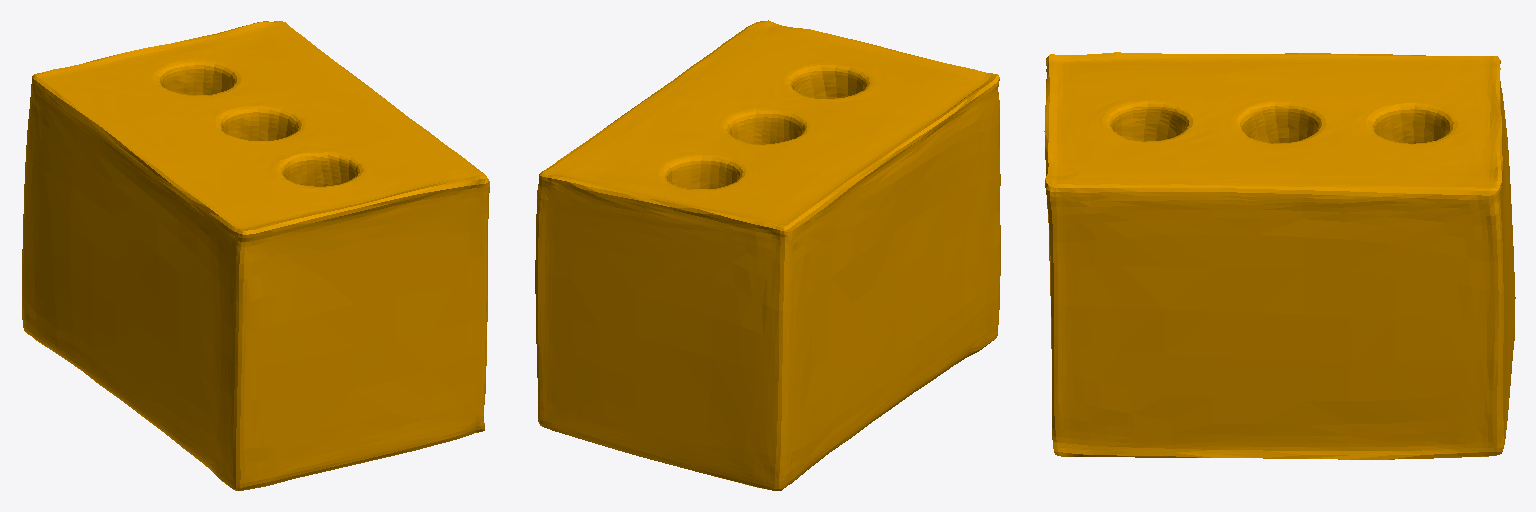
URDF robot description (foam_brick):
<?xml version="1.0"?>
<robot name="foam_brick">
  <link name="foam_brick">
    <visual>
      <origin xyz="0.0 0.0 0.0"/>
      <geometry>
        <mesh filename="ycb/061_foam_brick/textured.obj" scale="0.1 0.1 0.1"/>
      </geometry>
    </visual>
    <collision>
      <origin xyz="0.0 0.0 0.008"/>
      <geometry>
        <box size="0.049 0.074 0.049"/>
      </geometry>
    </collision>
    <inertial>
      <mass value="0.03"/>
      <inertia ixx="0.0001" ixy="0.0" ixz="0.0" iyy="0.0001" iyz="0.0" izz="0.0001"/>
    </inertial>
  </link>
</robot>

--- Render facts (derived) ---
Views: 3 orthographic renders of the robot side by side, from view 1: azimuth 30°, elevation 25°; view 2: azimuth 150°, elevation 25°; view 3: azimuth 270°, elevation 25°.
Robot: foam_brick — 1 links, 0 joints (none); root link foam_brick; default pose: all joints at 0.
Visible links, largest first — view 1: foam_brick; view 2: foam_brick; view 3: foam_brick.
Link boxes in pixels (<box>): foam_brick: <box>22,21,489,490</box>; foam_brick: <box>535,20,1000,490</box>; foam_brick: <box>1044,52,1515,459</box>.
Bounding box of the posed robot: 0.524 × 0.7769 × 0.5101 m (x, y, z).
1 mesh visuals loaded from 1 distinct referenced files (1 OBJ).
